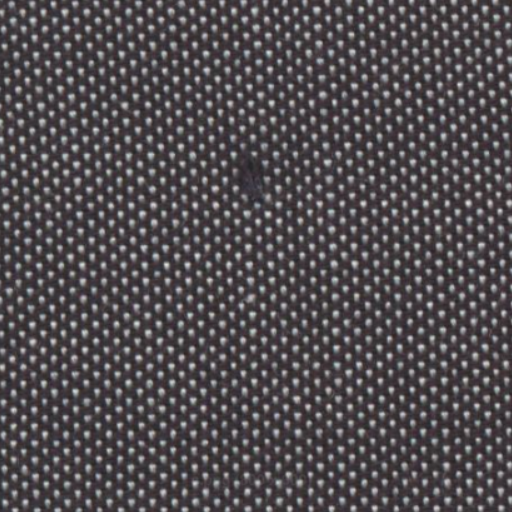MianQiu: (220, 142, 286, 212)
